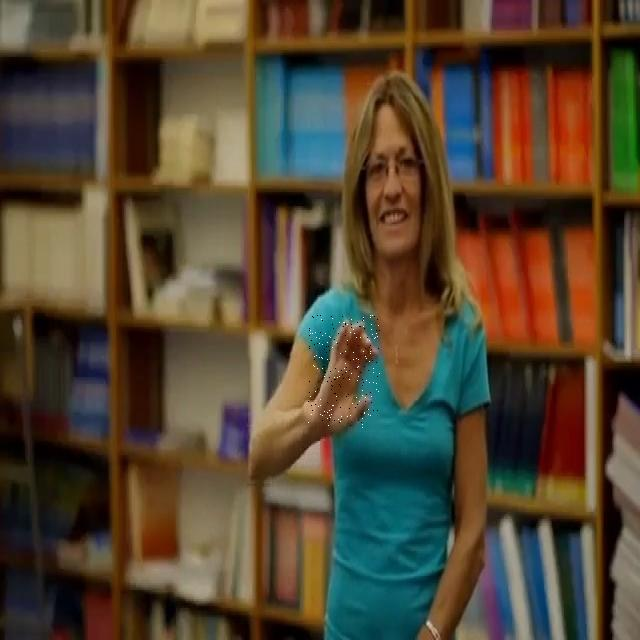pepper: (308, 315, 380, 428)
